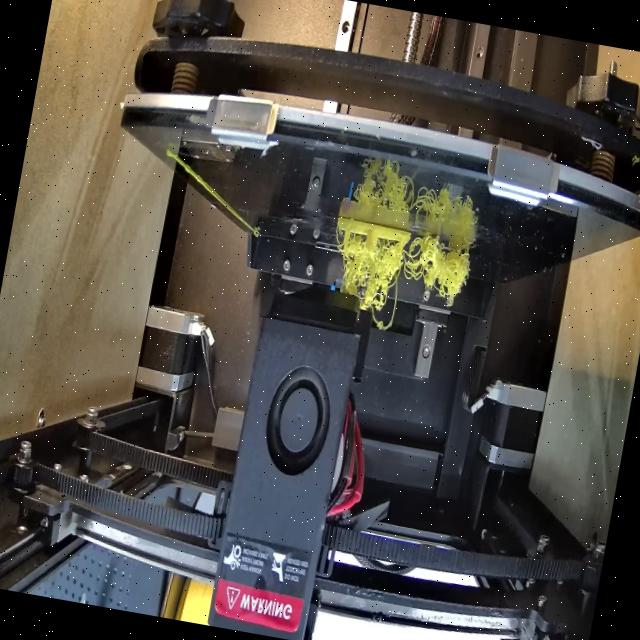spaghetti: (322, 226, 472, 345)
